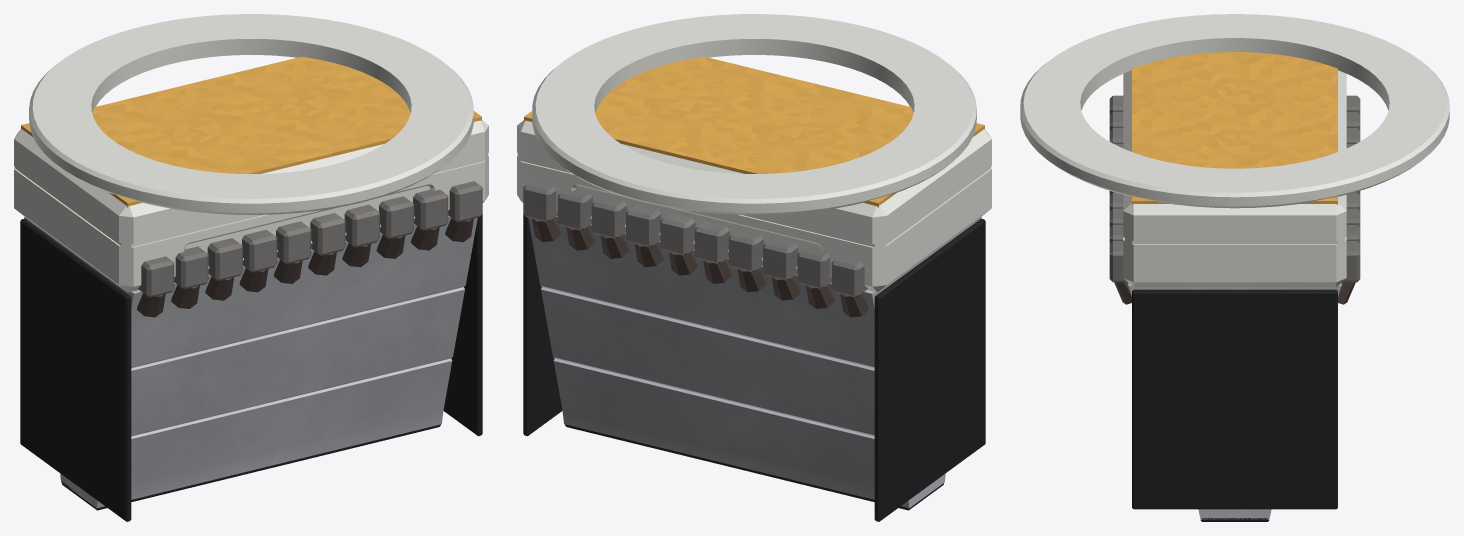
File: ax_prop_12_linear_aerospike.glb
3 renders of one model, left to right at view 1: azimuth 30°, elevation 25°; view 2: azimuth 150°, elevation 25°; view 3: azimuth 270°, elevation 25°, orthographic. The views are drawn at different scales.
Visible parts, largest first — view 1: ramp, mount_ring, side_fences, mli_top, housing, thrust_cells, cell_throats, base_plate; view 2: ramp, mount_ring, side_fences, mli_top, housing, thrust_cells, cell_throats, base_plate; view 3: side_fences, mount_ring, mli_top, housing, thrust_cells, ramp, cell_throats.
Part boxes in pixels (<box>): ramp: <box>24,216,477,508</box>; mount_ring: <box>29,14,473,214</box>; side_fences: <box>20,214,482,521</box>; mli_top: <box>21,56,481,207</box>; housing: <box>14,120,488,292</box>; thrust_cells: <box>138,181,482,297</box>; cell_throats: <box>137,218,473,317</box>; base_plate: <box>62,424,440,510</box>; ramp: <box>528,216,981,508</box>; mount_ring: <box>532,14,976,214</box>; side_fences: <box>523,214,985,521</box>; mli_top: <box>524,56,984,207</box>; housing: <box>517,120,991,292</box>; thrust_cells: <box>523,181,867,297</box>; cell_throats: <box>532,218,868,317</box>; base_plate: <box>565,424,943,510</box>; side_fences: <box>1132,289,1337,509</box>; mount_ring: <box>1020,14,1449,208</box>; mli_top: <box>1132,52,1337,204</box>; housing: <box>1123,70,1346,287</box>; thrust_cells: <box>1109,95,1360,282</box>; ramp: <box>1128,283,1341,519</box>; cell_throats: <box>1114,282,1355,304</box>.
Size of the model in its own units: 2.5 by 2.17 by 2.5.
6 materials, 4 textured.
